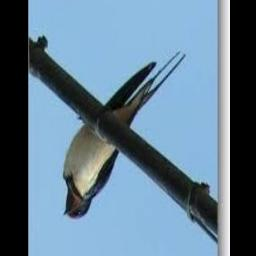Swallow: (62, 51, 185, 219)
